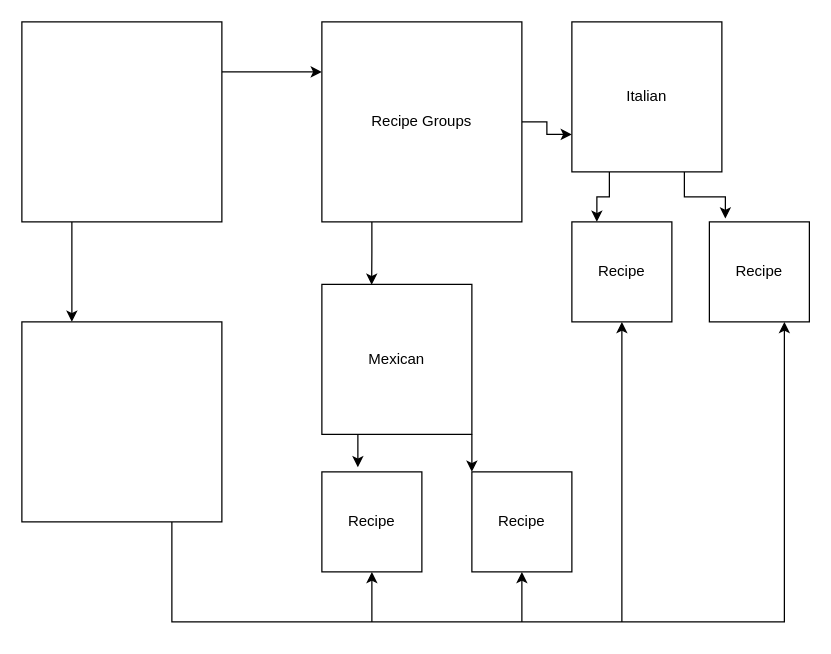
The diagram is 831 pixels wide and 654 high, and some of its shapes have lost their labels. The box of each missing label's shape, as (x1, y1, x2, y2) in pixels:
Comments: (21, 321, 222, 522)
User: (21, 21, 222, 222)
